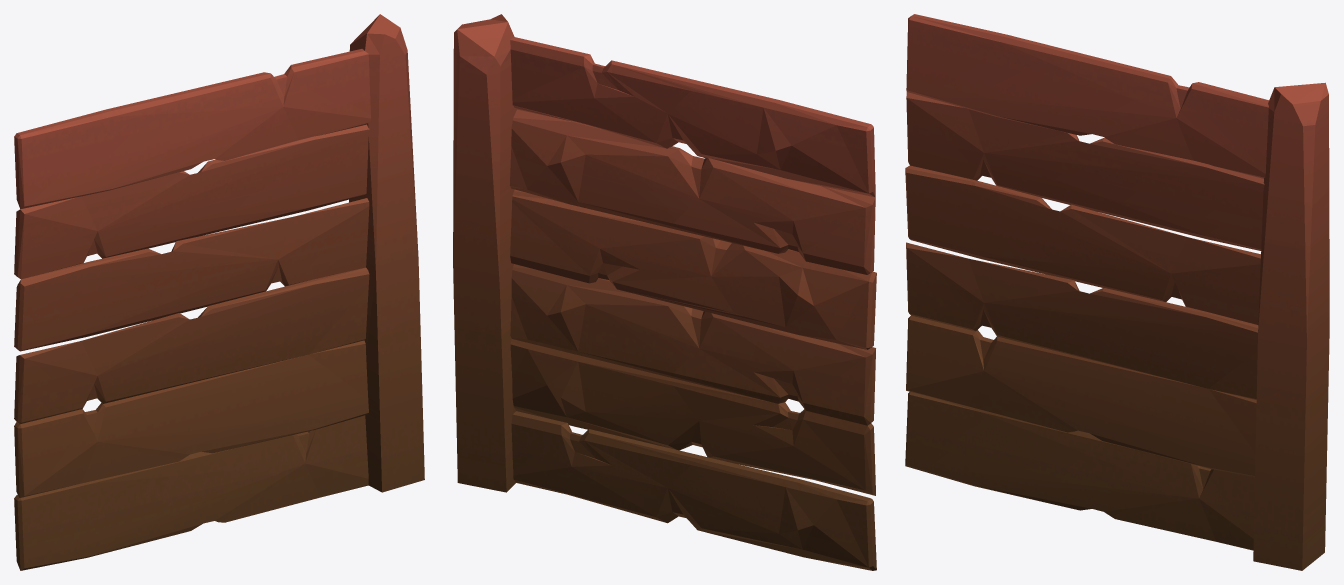
3 views of the same model, side by side, from view 1: azimuth 30°, elevation 25°; view 2: azimuth 150°, elevation 25°; view 3: azimuth 330°, elevation 25° (orthographic). The views are drawn at different scales.
Parts seen in each view (by area): view 1: WoodenWall1; view 2: WoodenWall1; view 3: WoodenWall1.
Part boxes in pixels (x1,y1,x2,y2): WoodenWall1: [14, 14, 424, 570]; WoodenWall1: [453, 14, 876, 570]; WoodenWall1: [905, 14, 1329, 570].
Size of the model in its own units: 2.62 by 2.87 by 0.4406.
1 material, 1 textured.
